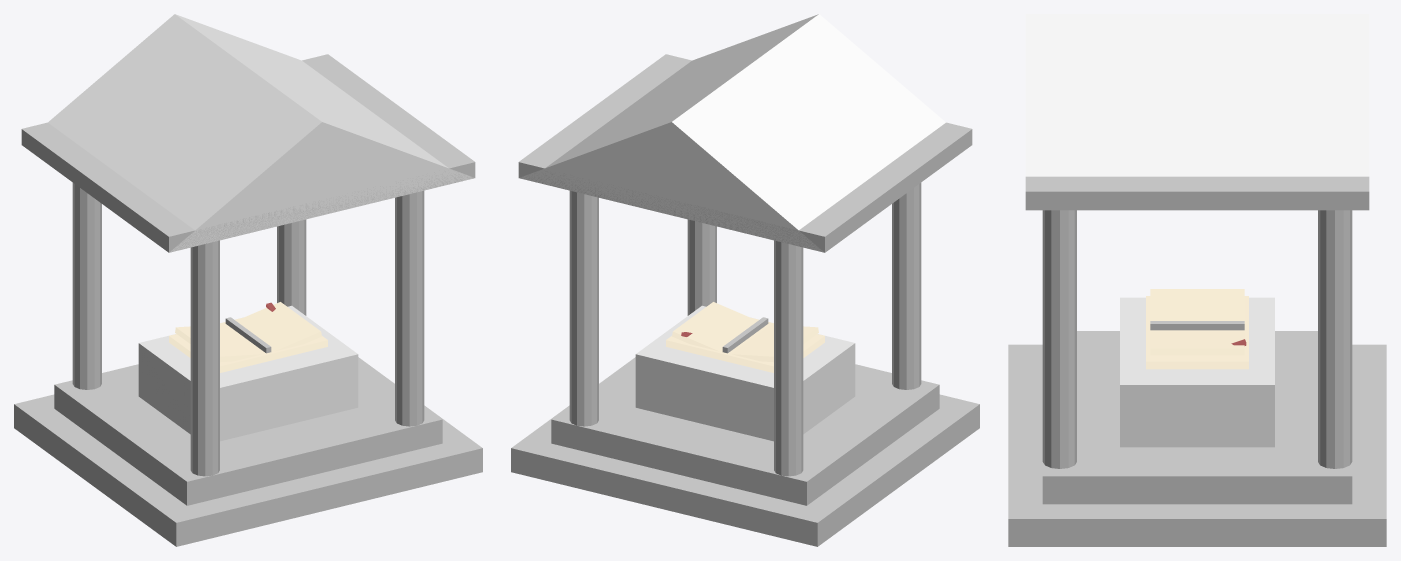
Rendered from SA-001_Manifesto_Stand.glb.
3 renders of one model, left to right at view 1: azimuth 30°, elevation 25°; view 2: azimuth 150°, elevation 25°; view 3: azimuth 270°, elevation 25°, orthographic. The views are drawn at different scales.
Parts seen in each view (by area): view 1: Manifesto_Roof, Manifesto_Step, Manifesto_Base, Stone_Slab, Roof_Slab, Column_Pillar_2, Column_Pillar_3, Column_Pillar_1, Column_Pillar_0, Manifesto_Book_Page_R, Manifesto_Book_Base, Manifesto_Book_Page_L; view 2: Manifesto_Roof, Manifesto_Step, Manifesto_Base, Stone_Slab, Roof_Slab, Column_Pillar_0, Column_Pillar_1, Column_Pillar_3, Column_Pillar_2, Manifesto_Book_Page_R, Manifesto_Book_Base, Manifesto_Book_Page_L; view 3: Manifesto_Roof, Manifesto_Base, Manifesto_Step, Stone_Slab, Roof_Slab, Column_Pillar_0, Column_Pillar_2, Manifesto_Book_Page_L, Manifesto_Book_Base, Manifesto_Book_Page_R, Manifesto_Book_Spine.
Part boxes in pixels (box(x1,y1,x2,y2)): Manifesto_Roof: box(48, 14, 474, 252); Manifesto_Step: box(54, 358, 442, 505); Manifesto_Base: box(14, 357, 482, 546); Stone_Slab: box(138, 305, 358, 441); Roof_Slab: box(21, 54, 475, 252); Column_Pillar_2: box(395, 190, 424, 426); Column_Pillar_3: box(190, 240, 219, 476); Column_Pillar_1: box(72, 183, 101, 389); Column_Pillar_0: box(277, 219, 306, 315); Manifesto_Book_Page_R: box(236, 302, 321, 351); Manifesto_Book_Base: box(169, 318, 327, 372); Manifesto_Book_Page_L: box(175, 324, 262, 362); Manifesto_Roof: box(519, 14, 945, 252); Manifesto_Step: box(551, 358, 939, 505); Manifesto_Base: box(511, 357, 979, 546); Stone_Slab: box(635, 305, 855, 441); Roof_Slab: box(518, 54, 972, 252); Column_Pillar_0: box(569, 190, 598, 426); Column_Pillar_1: box(774, 240, 803, 476); Column_Pillar_3: box(892, 183, 921, 389); Column_Pillar_2: box(687, 219, 716, 315); Manifesto_Book_Page_R: box(672, 302, 757, 351); Manifesto_Book_Base: box(666, 318, 824, 372); Manifesto_Book_Page_L: box(731, 324, 818, 362); Manifesto_Roof: box(1025, 14, 1369, 176); Manifesto_Base: box(1008, 344, 1386, 546); Manifesto_Step: box(1042, 331, 1352, 504); Stone_Slab: box(1120, 297, 1274, 447); Roof_Slab: box(1025, 176, 1369, 210); Column_Pillar_0: box(1318, 210, 1352, 468); Column_Pillar_2: box(1042, 210, 1076, 468); Manifesto_Book_Page_L: box(1150, 289, 1244, 320); Manifesto_Book_Base: box(1146, 296, 1248, 369); Manifesto_Book_Page_R: box(1150, 332, 1244, 355); Manifesto_Book_Spine: box(1150, 321, 1244, 330).
Size of the model in its own units: 2.4 by 2.86 by 2.2.
